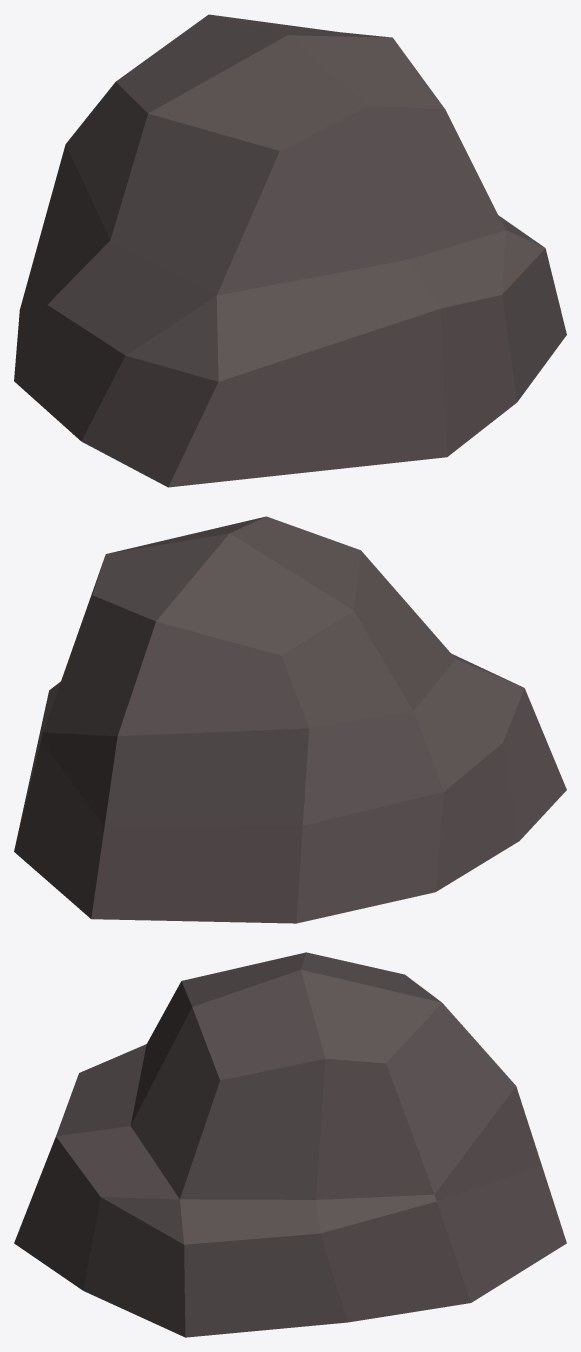
The model's file is Stone4.fbx.
3 renders of one model, top to bottom at view 1: azimuth 30°, elevation 25°; view 2: azimuth 150°, elevation 25°; view 3: azimuth 270°, elevation 25°, orthographic. The views are drawn at different scales.
Parts seen in each view (by area): view 1: Stone4; view 2: Stone4; view 3: Stone4.
Part boxes in pixels (bbox=[...]): Stone4: bbox=[14, 14, 566, 487]; Stone4: bbox=[14, 516, 566, 923]; Stone4: bbox=[14, 952, 566, 1337].
Bounding box in the file's own units: 279 × 172 × 314.
